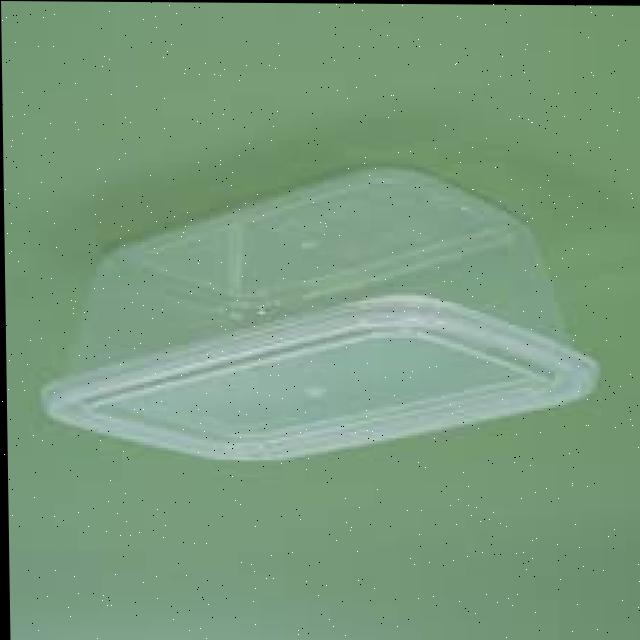disposable: (27, 162, 576, 488)
